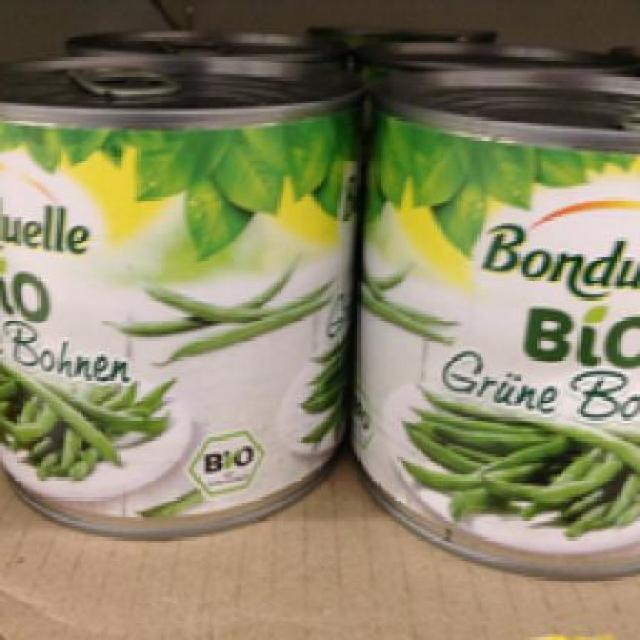Beans: (0, 48, 366, 544), (374, 57, 637, 566)
